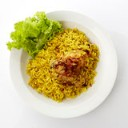briyani: (32, 30, 93, 100)
